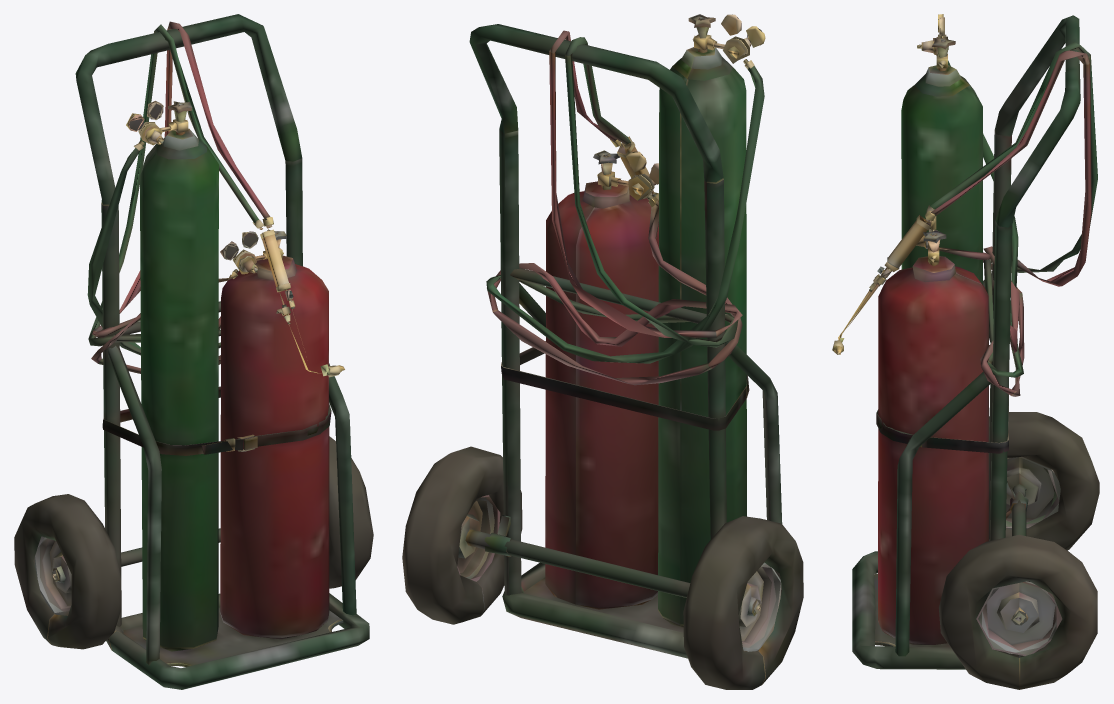
Rendered from portable_welding_cart_lod2.glb.
The picture shows the model from 3 angles, left to right: view 1: azimuth 30°, elevation 25°; view 2: azimuth 150°, elevation 25°; view 3: azimuth 270°, elevation 25°; orthographic projection. The views are drawn at different scales.
Parts seen in each view (by area): view 1: portable_welding_cart; view 2: portable_welding_cart; view 3: portable_welding_cart.
Part boxes in pixels (x1=…): portable_welding_cart: x1=14, y1=14, x2=373, y2=689; portable_welding_cart: x1=402, y1=14, x2=803, y2=689; portable_welding_cart: x1=832, y1=14, x2=1099, y2=689.
Size of the model in its own units: 0.8366 by 1.56 by 0.655.
2 materials, 2 textured.
